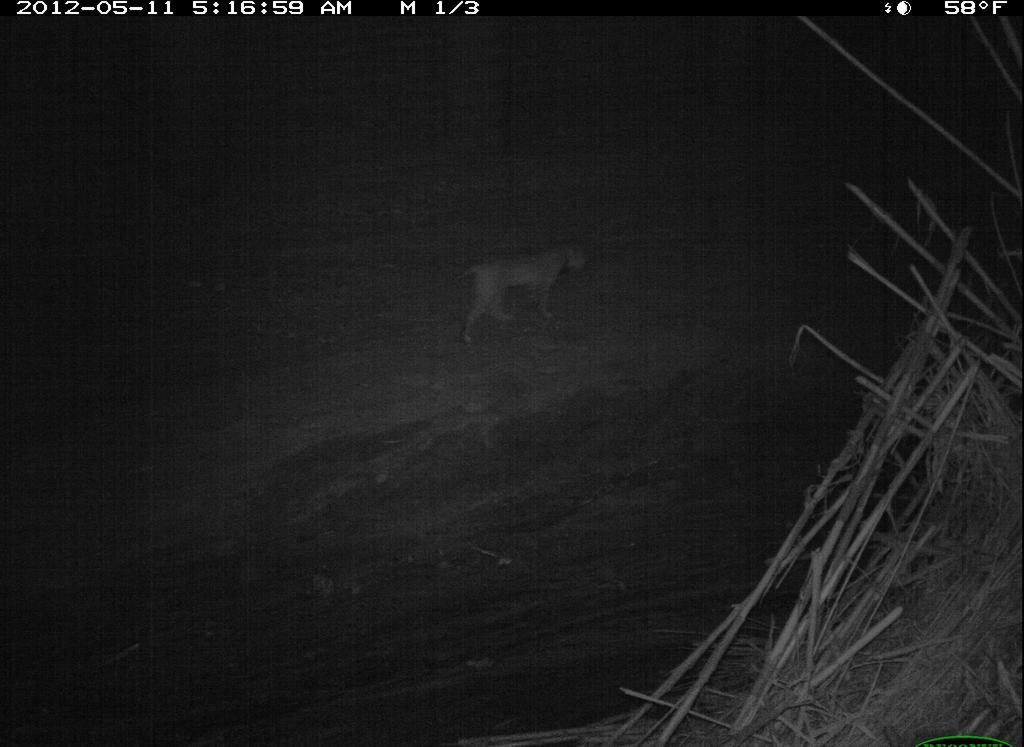bobcat: (455, 221, 601, 363)
